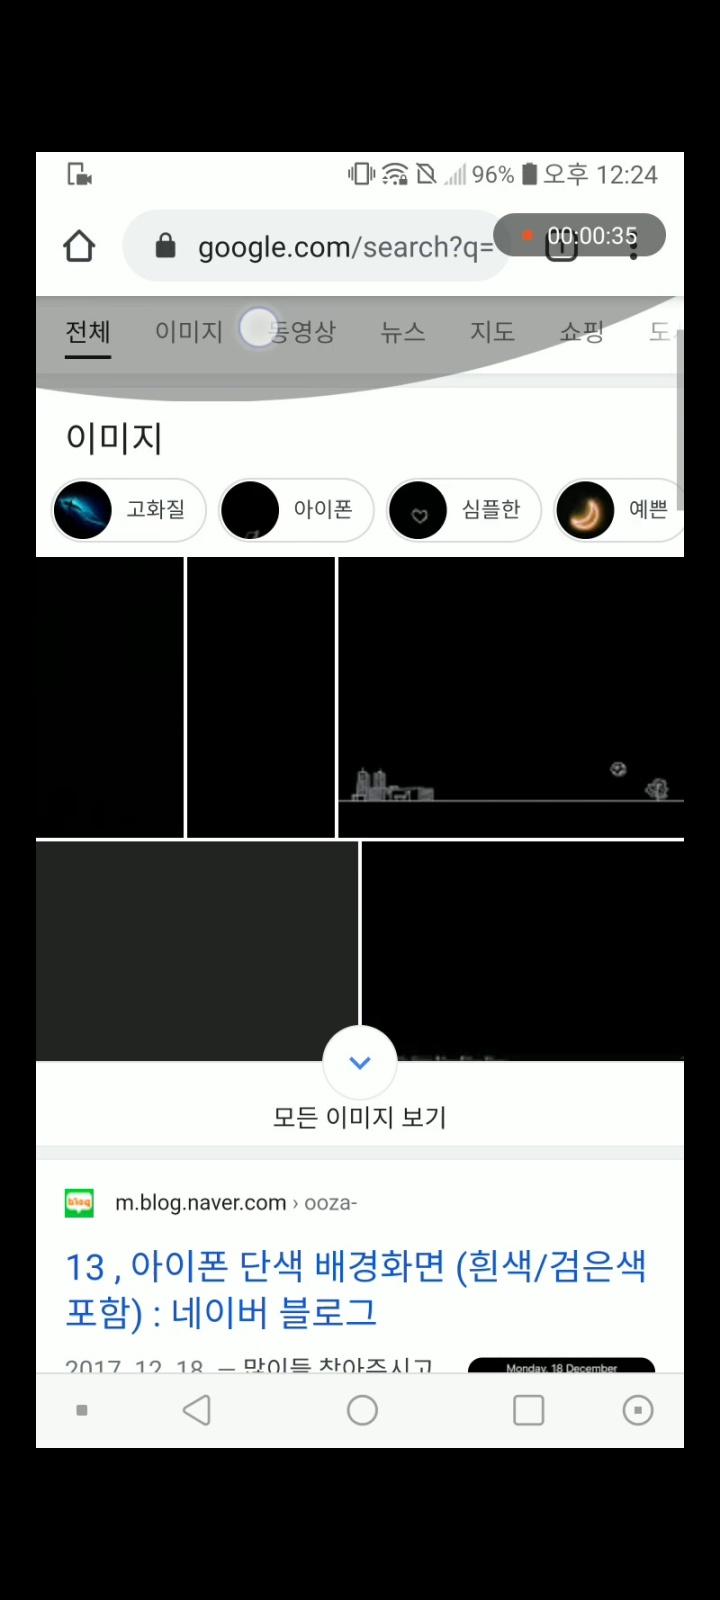Cursor: (236, 305, 281, 350)
